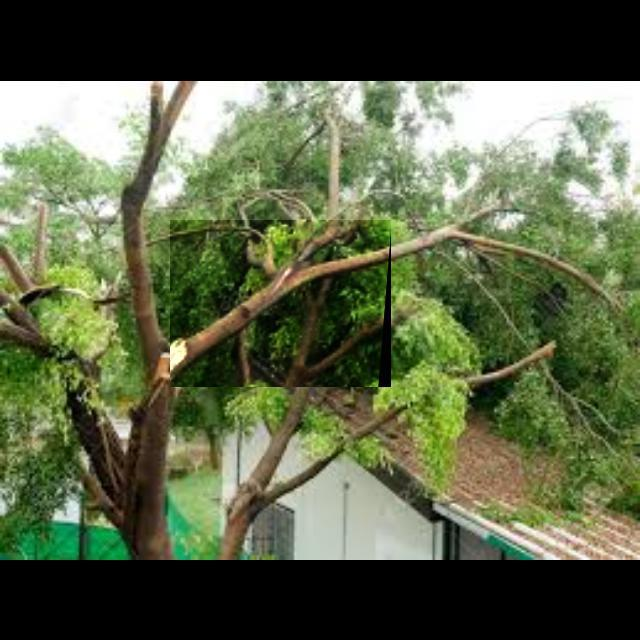fallen_tree: (170, 220, 392, 388)
